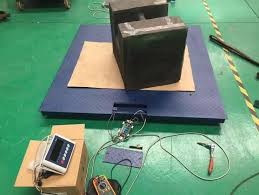Industrial Scale: (32, 23, 228, 195)
